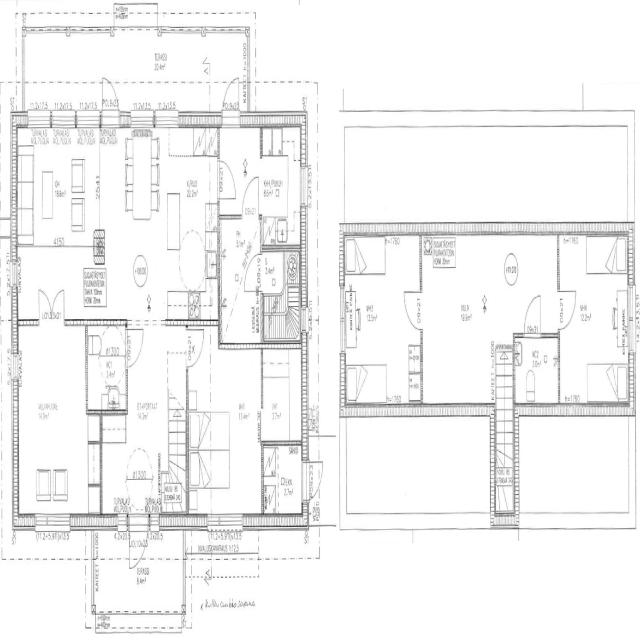door: (35, 284, 68, 324), (401, 284, 423, 332), (522, 290, 544, 337), (100, 74, 120, 125), (128, 518, 148, 569), (556, 284, 578, 330), (221, 75, 241, 125), (303, 457, 324, 503), (240, 173, 260, 221), (126, 321, 145, 369), (218, 158, 237, 202), (243, 251, 262, 294), (188, 324, 205, 369), (118, 367, 128, 396)
window: (32, 513, 72, 540), (213, 512, 246, 540), (337, 280, 347, 358), (625, 278, 635, 354), (49, 110, 77, 133), (75, 113, 102, 133), (24, 112, 50, 132), (300, 162, 310, 212), (129, 112, 154, 132), (154, 111, 180, 130), (12, 348, 22, 384)
zone: (91, 126, 218, 325), (16, 324, 93, 519), (16, 127, 92, 320), (343, 235, 421, 405), (422, 240, 501, 407), (188, 345, 263, 520), (558, 232, 630, 403), (218, 215, 262, 346), (260, 127, 304, 249), (261, 345, 304, 445), (261, 250, 301, 344), (87, 328, 128, 412), (263, 443, 305, 524), (512, 334, 559, 406)
